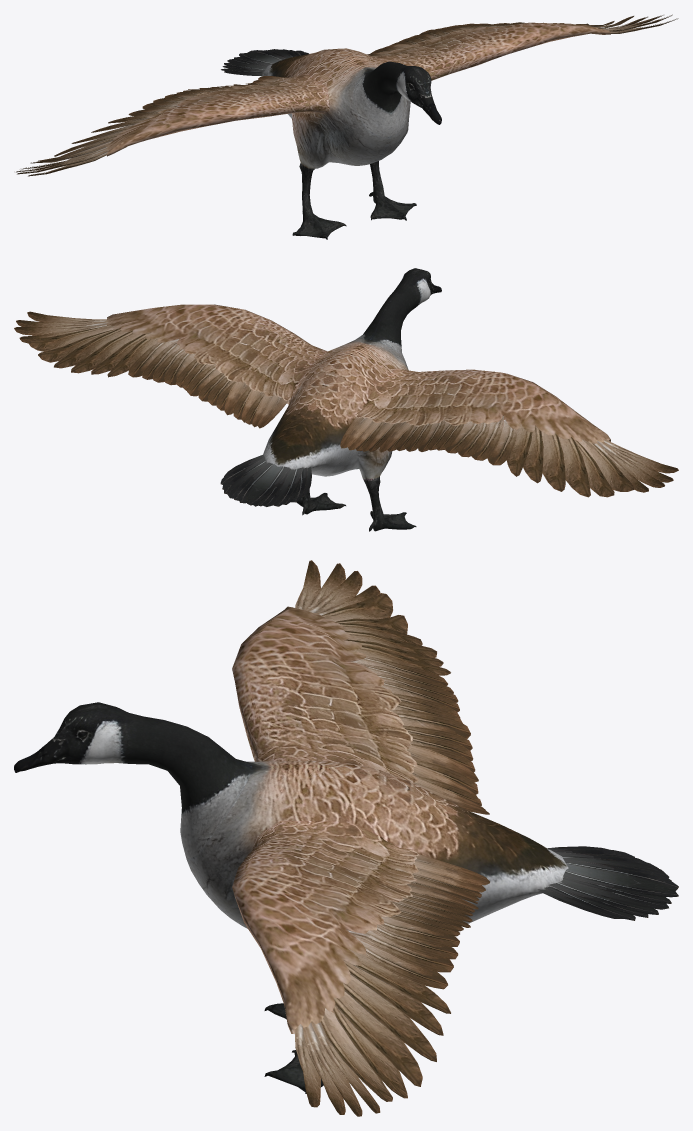
Rendered from goose-marketplace.glb.
3 views of the same model, one above another, from view 1: azimuth 30°, elevation 25°; view 2: azimuth 150°, elevation 25°; view 3: azimuth 270°, elevation 25° (orthographic). The views are drawn at different scales.
Parts seen in each view (by area): view 1: sm_1_0_0_0; view 2: sm_1_0_0_0; view 3: sm_1_0_0_0.
Part boxes in pixels (x1,y1,x2,y2): sm_1_0_0_0: [16, 14, 678, 239]; sm_1_0_0_0: [14, 268, 678, 531]; sm_1_0_0_0: [14, 560, 678, 1116].
Size of the model in its own units: 1.34 by 0.3877 by 0.6851.
Materials: 1 (1 with a texture image).
